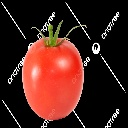tomato: (23, 34, 85, 120)
